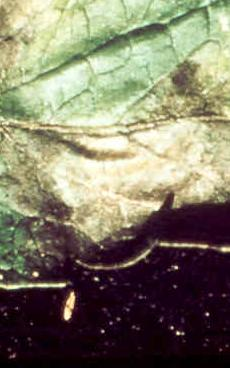Tomato leaf late blight: (0, 0, 230, 308)
